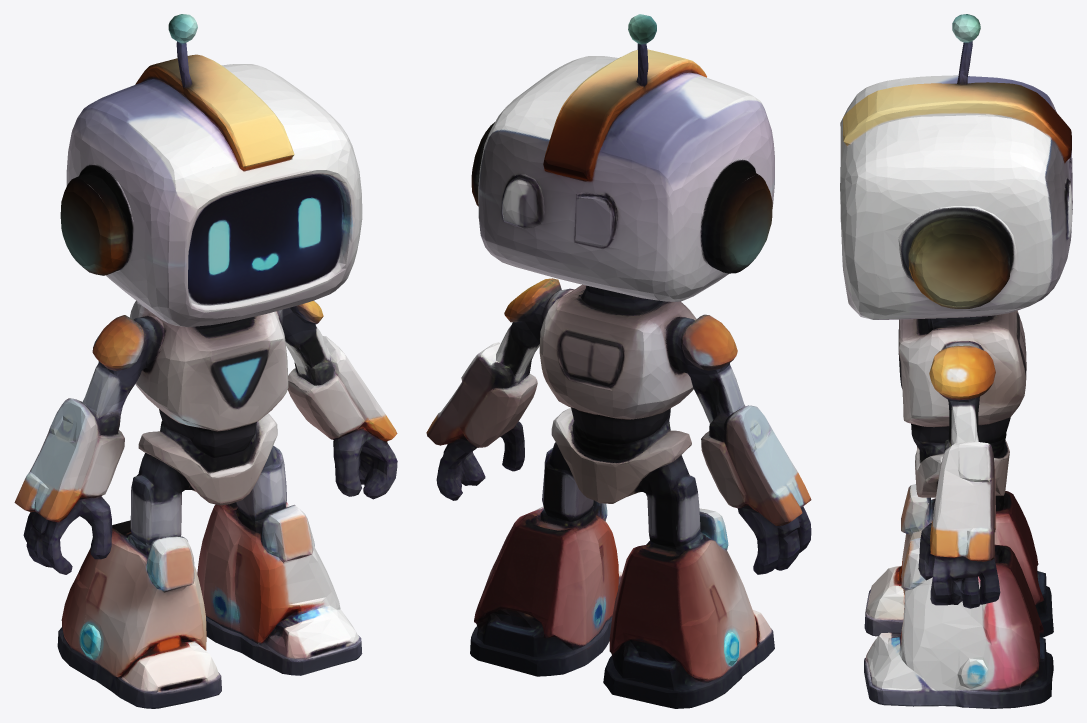
Rendered from 3d-robot-toy.glb.
The picture shows the model from 3 angles, left to right: view 1: azimuth 30°, elevation 25°; view 2: azimuth 150°, elevation 25°; view 3: azimuth 270°, elevation 25°; orthographic projection. The views are drawn at different scales.
Parts seen in each view (by area): view 1: world; view 2: world; view 3: world.
Part boxes in pixels (x1=…): world: x1=14, y1=14, x2=397, y2=708; world: x1=426, y1=14, x2=811, y2=708; world: x1=840, y1=14, x2=1072, y2=708.
Size of the model in its own units: 0.5969 by 1 by 0.3383.
1 material, 1 textured.
